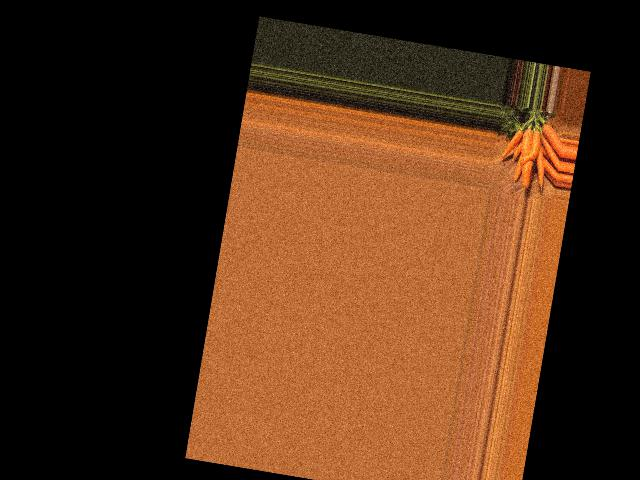carrot: (537, 121, 565, 155)
